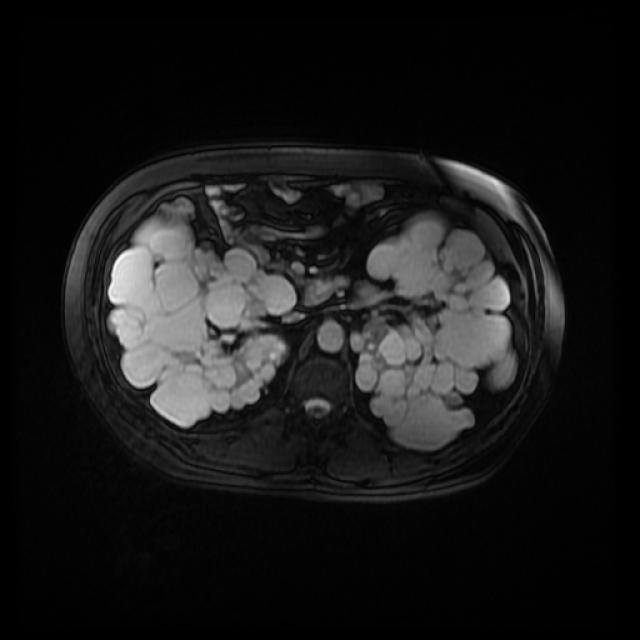sag: (106, 194, 299, 429)
sol: (347, 218, 518, 450)
